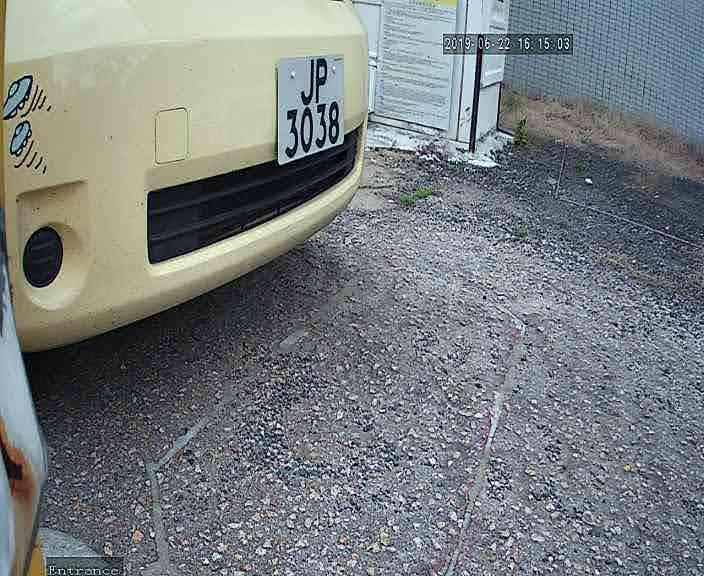privatecar: (2, 2, 383, 339)
